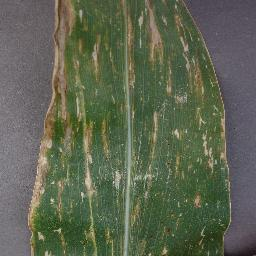Gray_Leaf_Spot: (24, 0, 236, 256)
